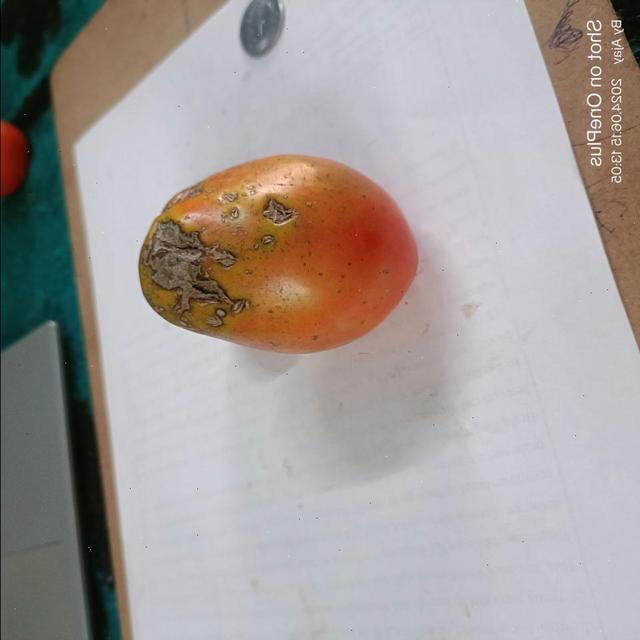Bacterial Spot Fruit: (2, 2, 213, 225)
